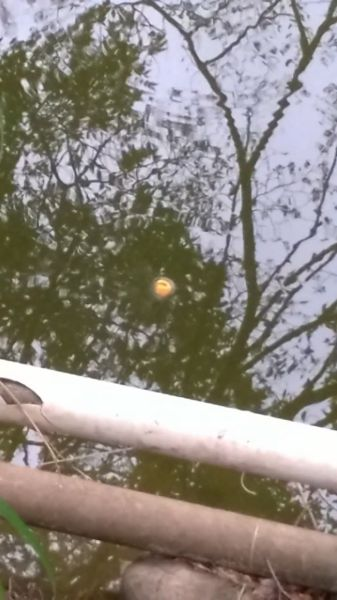eggs: (150, 274, 178, 300)
